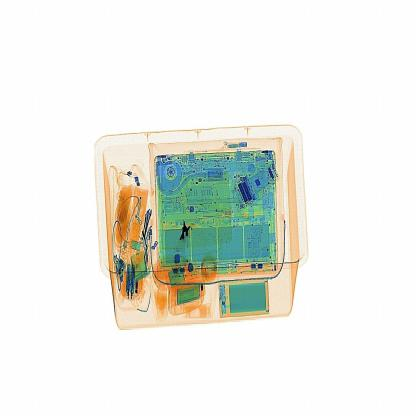gun: (171, 206, 202, 257)
